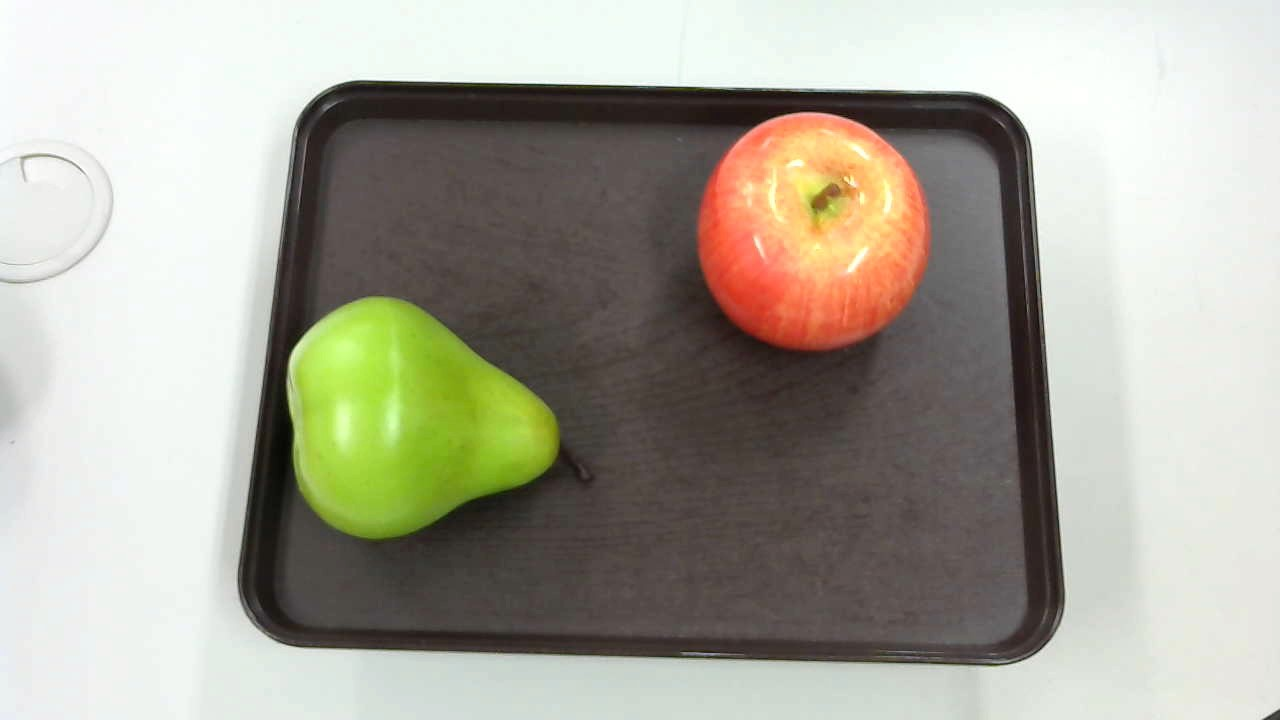green pear: (279, 291, 597, 535)
red apple: (694, 110, 931, 359)
